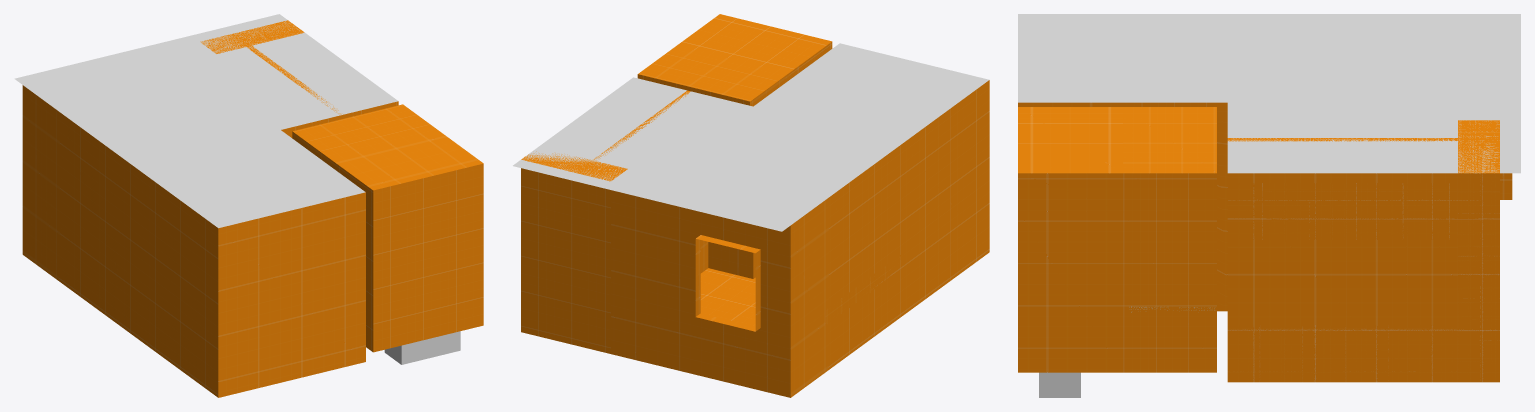
Rendered from room.glb.
3 views of the same model, side by side, from view 1: azimuth 30°, elevation 25°; view 2: azimuth 150°, elevation 25°; view 3: azimuth 270°, elevation 25° (orthographic). The views are drawn at different scales.
Visible parts, largest first — view 1: Room-col.001, Ceiling, Room-col, Wall, Toilet, Cube.003; view 2: Room-col.001, Ceiling, Wall, Room-col, Desk-col, Cube.003; view 3: Ceiling, Room-col.001, Room-col, Cupboard, Bed, Wall, Toilet, Cube.003.
Boxes of the visible parts, x1,y1,x2,y2 form: Room-col.001: [22, 85, 365, 397]; Ceiling: [14, 14, 398, 228]; Room-col: [281, 104, 483, 352]; Wall: [200, 20, 304, 53]; Toilet: [384, 331, 460, 364]; Cube.003: [238, 40, 345, 118]; Room-col.001: [611, 80, 989, 397]; Ceiling: [513, 43, 989, 231]; Wall: [521, 151, 627, 353]; Room-col: [637, 14, 832, 278]; Desk-col: [825, 253, 902, 325]; Cube.003: [593, 90, 690, 160]; Ceiling: [1018, 14, 1520, 173]; Room-col.001: [1227, 173, 1512, 382]; Room-col: [1018, 102, 1227, 372]; Cupboard: [1227, 183, 1478, 239]; Bed: [1227, 325, 1457, 382]; Wall: [1458, 120, 1499, 382]; Toilet: [1039, 372, 1080, 397]; Cube.003: [1227, 138, 1473, 141].
Bounding box in the file's own units: 18 × 12.3 × 24.
4 materials, 1 textured.
